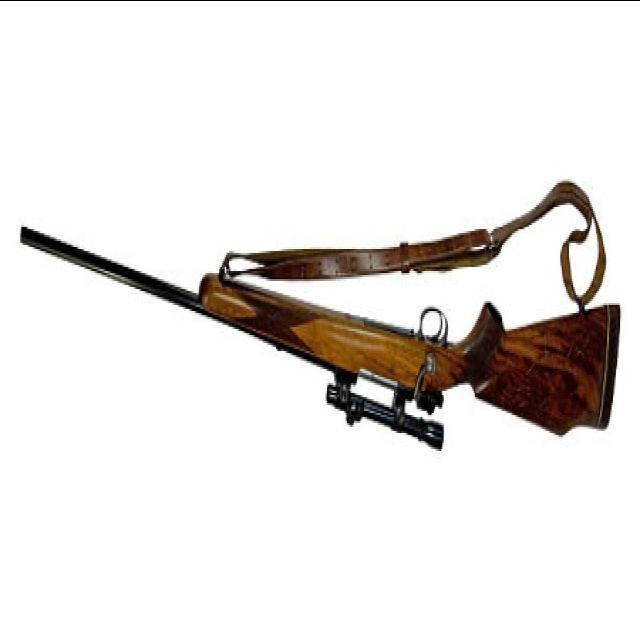rifle: (12, 219, 624, 439)
